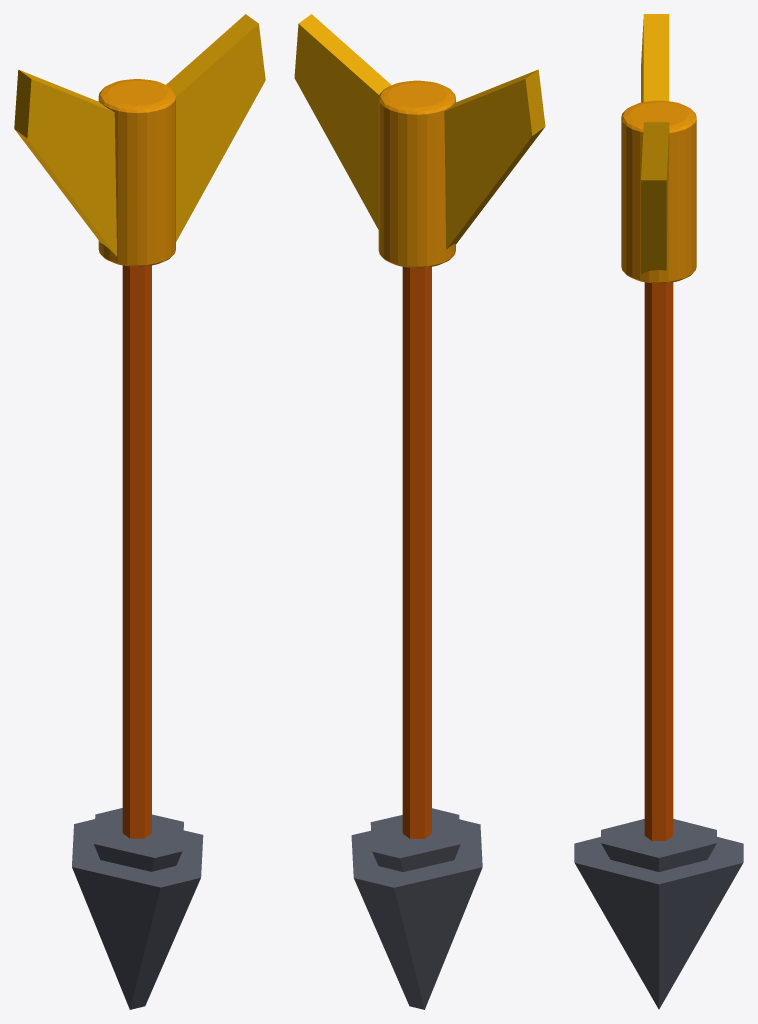
File: arrow .fbx
The picture shows the model from 3 angles, left to right: view 1: azimuth 30°, elevation 25°; view 2: azimuth 150°, elevation 25°; view 3: azimuth 270°, elevation 25°; orthographic projection. The views are drawn at different scales.
Parts seen in each view (by area): view 1: Cube.002, Cylinder, Cube, Cylinder.001, Cube.001; view 2: Cube.002, Cylinder, Cylinder.001, Cube, Cube.001; view 3: Cylinder, Cube, Cylinder.001, Cube.002, Cube.001.
Part boxes in pixels (x1,y1,x2,y2): Cube.002: (14, 14, 265, 256); Cylinder: (122, 265, 151, 838); Cube: (72, 819, 203, 1009); Cylinder.001: (98, 79, 175, 266); Cube.001: (94, 808, 183, 871); Cube.002: (294, 14, 545, 249); Cylinder: (402, 266, 431, 838); Cylinder.001: (378, 80, 455, 267); Cube: (351, 819, 482, 1009); Cube.001: (370, 808, 460, 871); Cylinder: (644, 282, 673, 840); Cube: (574, 837, 743, 1009); Cylinder.001: (621, 100, 696, 283); Cube.002: (641, 14, 669, 273); Cube.001: (601, 819, 716, 871).
Bounding box in the file's own units: 329 × 2013 × 522.
